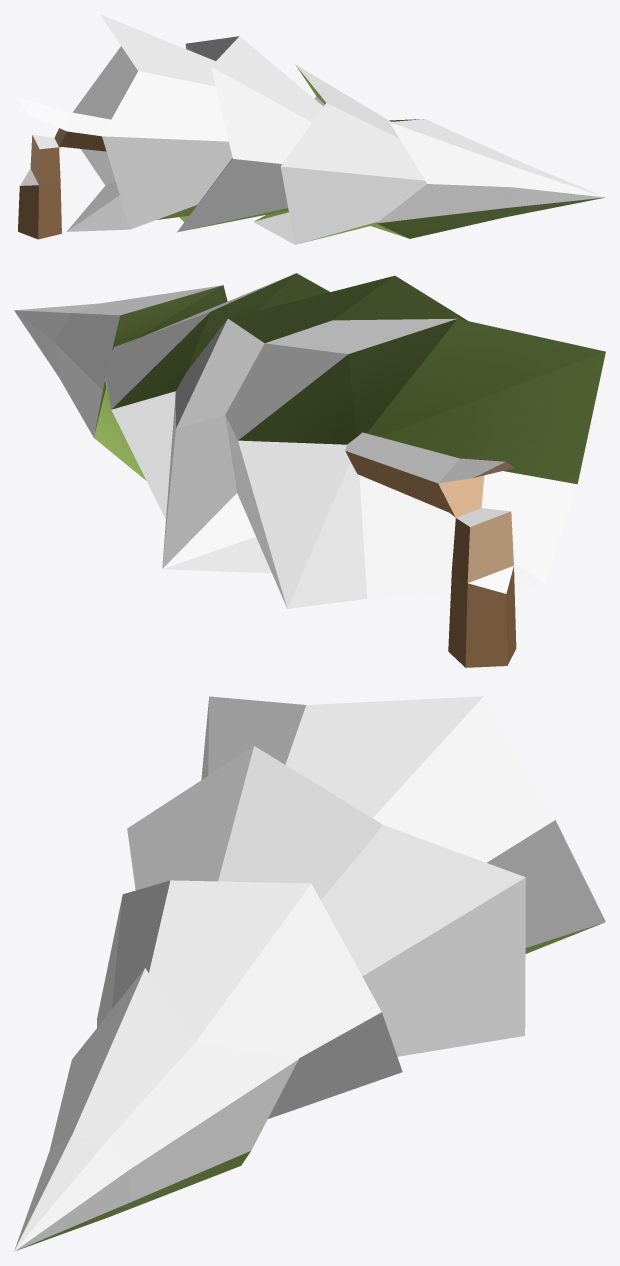
The model's file is Pine_Tree_crk_m_Snow_02.fbx.
3 renders of one model, top to bottom at view 1: azimuth 30°, elevation 25°; view 2: azimuth 150°, elevation 25°; view 3: azimuth 270°, elevation 25°, orthographic. The views are drawn at different scales.
Visible parts, largest first — view 1: Pine_Tree_crk_m_Snow_02; view 2: Pine_Tree_crk_m_Snow_02; view 3: Pine_Tree_crk_m_Snow_02.
Boxes of the visible parts, x1,y1,x2,y2 form: Pine_Tree_crk_m_Snow_02: [14, 14, 605, 244]; Pine_Tree_crk_m_Snow_02: [14, 273, 605, 667]; Pine_Tree_crk_m_Snow_02: [14, 696, 605, 1251].
Size of the model in its own units: 858 by 358 by 595.
